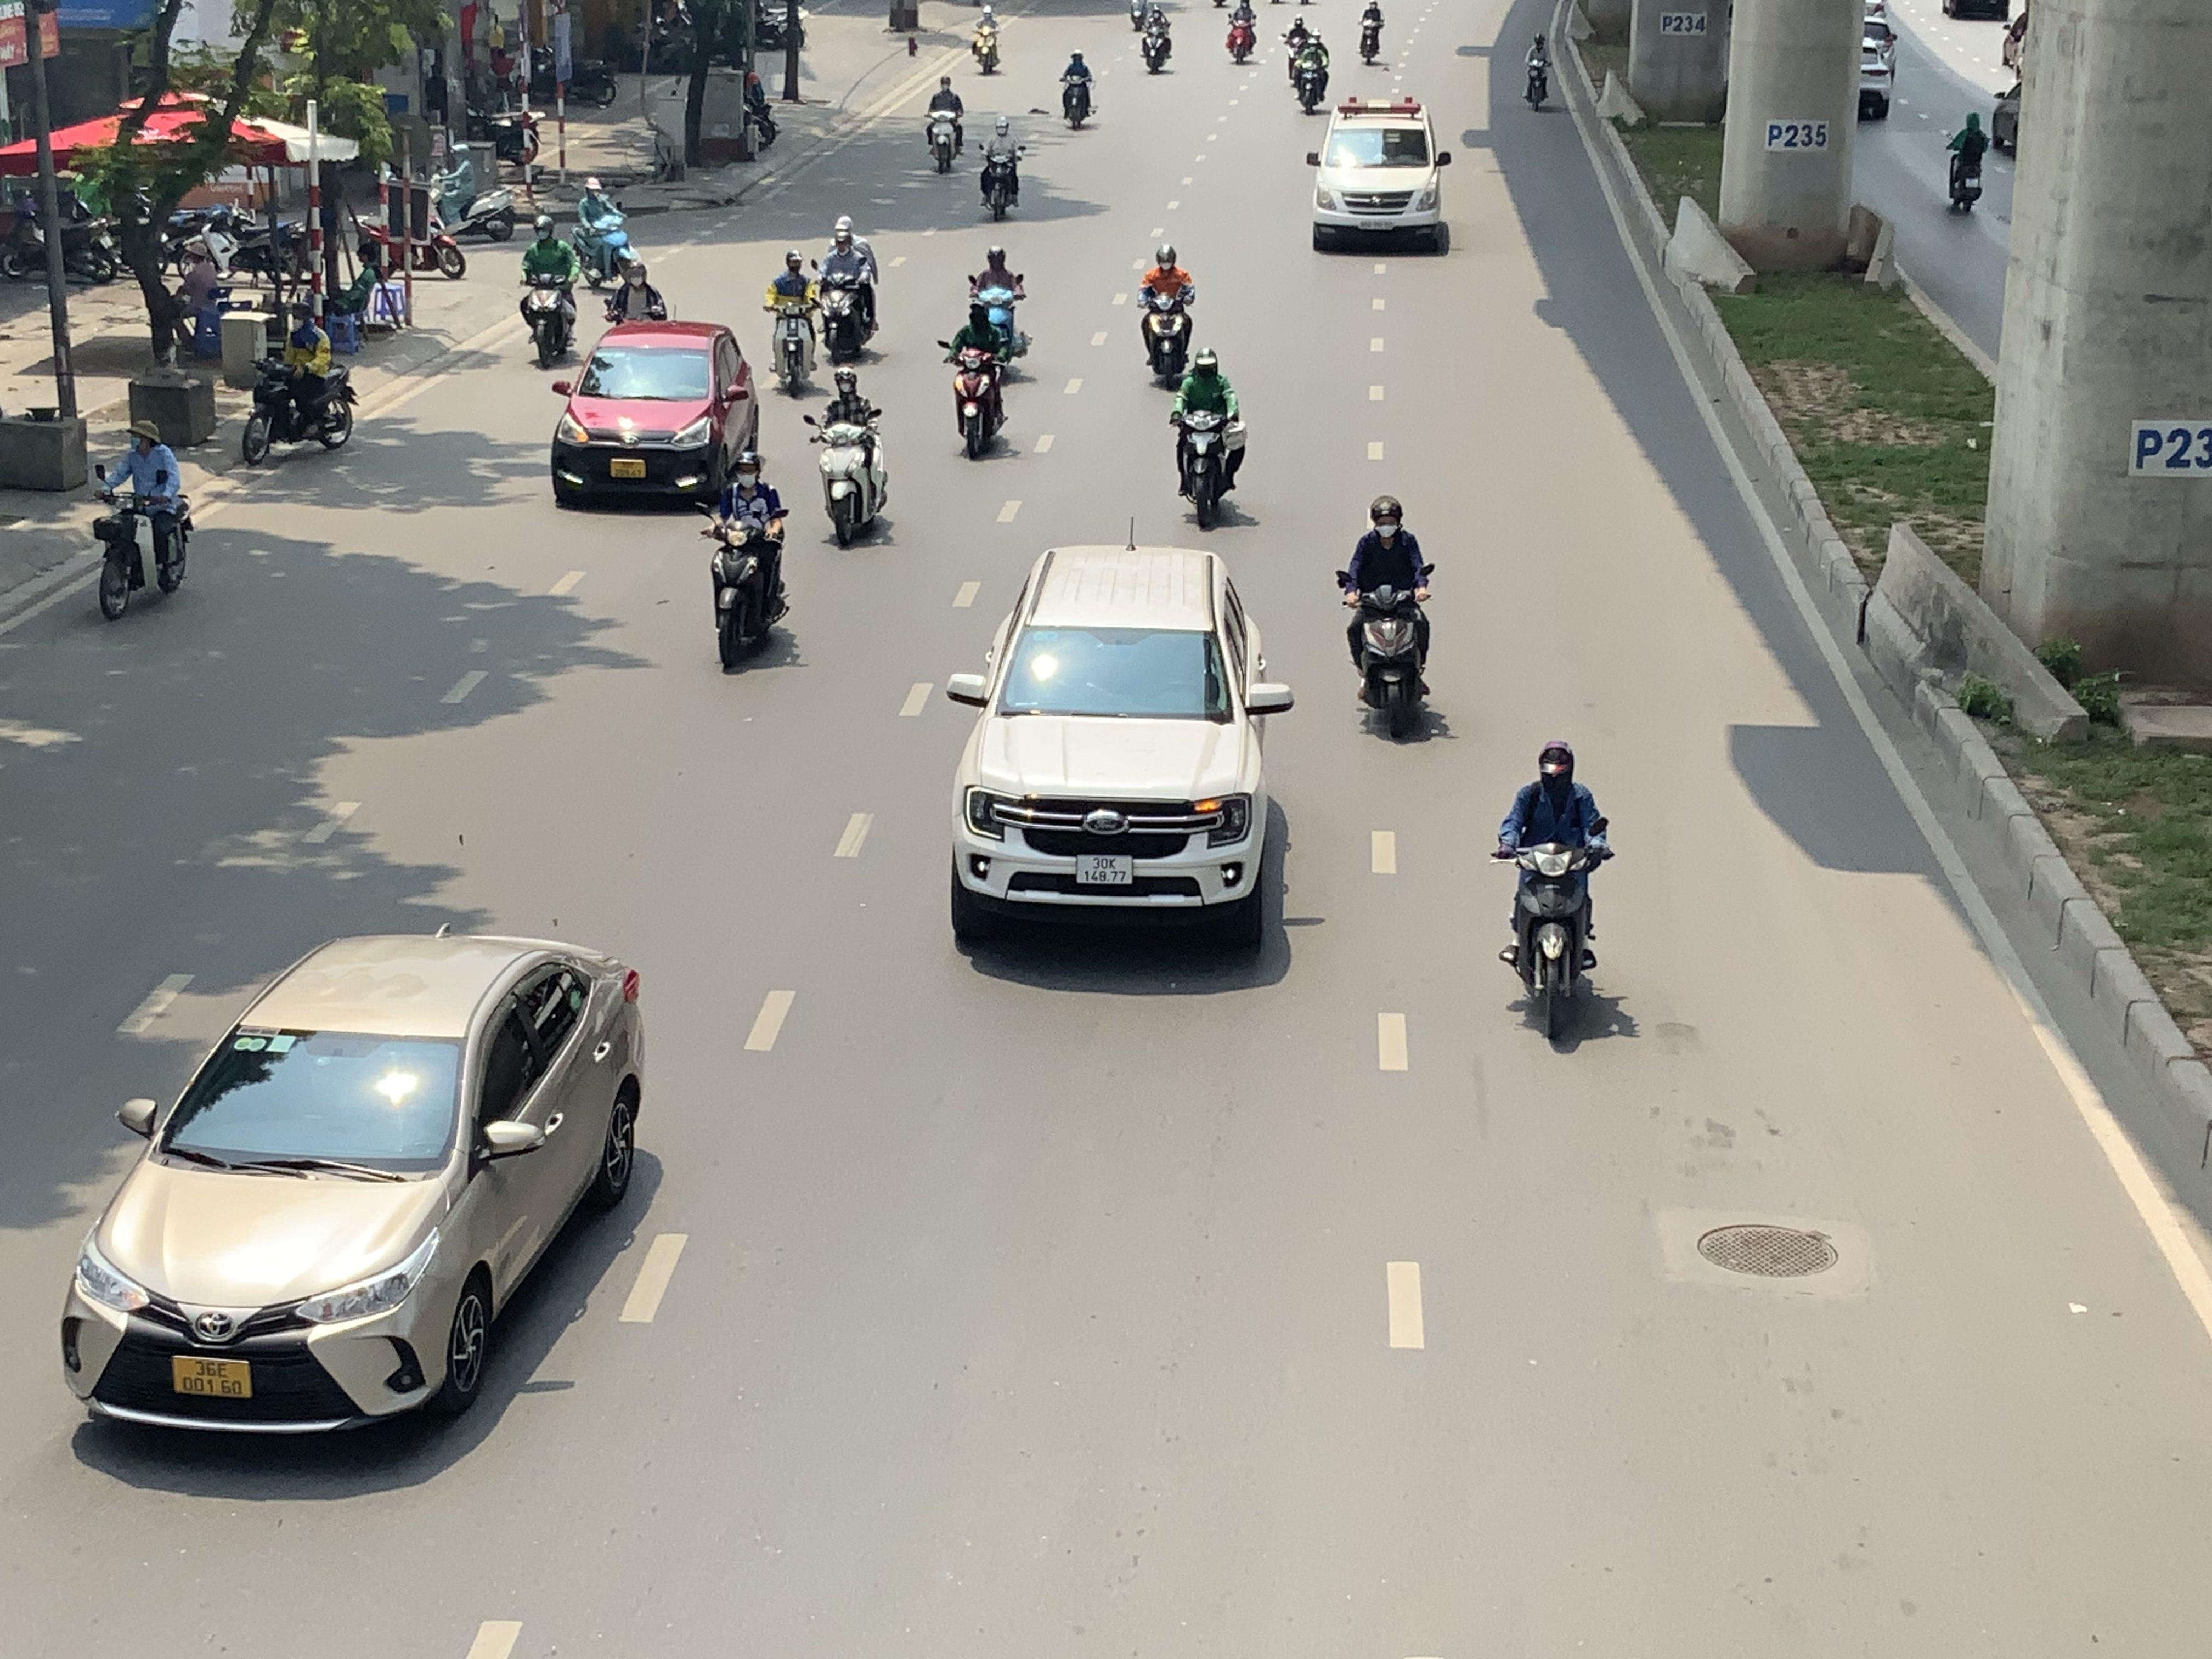BSV: (172, 1358, 253, 1398), (1076, 854, 1134, 885), (610, 460, 646, 479)
car: (59, 925, 650, 1446), (946, 544, 1296, 953), (547, 319, 761, 511), (1305, 94, 1454, 254)
motorbike: (1494, 741, 1611, 1047), (1339, 495, 1439, 744), (91, 420, 195, 622), (700, 451, 792, 674), (239, 310, 357, 465), (808, 366, 892, 549), (1170, 345, 1247, 532), (941, 296, 1014, 460), (517, 214, 580, 369), (813, 216, 880, 362), (1136, 242, 1197, 387), (763, 249, 820, 397), (430, 145, 517, 242), (967, 244, 1029, 376), (571, 176, 636, 291), (599, 244, 672, 328), (977, 112, 1026, 221), (1944, 110, 1987, 214), (923, 73, 967, 174), (1057, 45, 1097, 131), (1292, 30, 1332, 113), (1139, 3, 1174, 75), (1522, 33, 1554, 112), (970, 5, 1003, 75), (1224, 0, 1258, 64), (1357, 0, 1386, 66)
